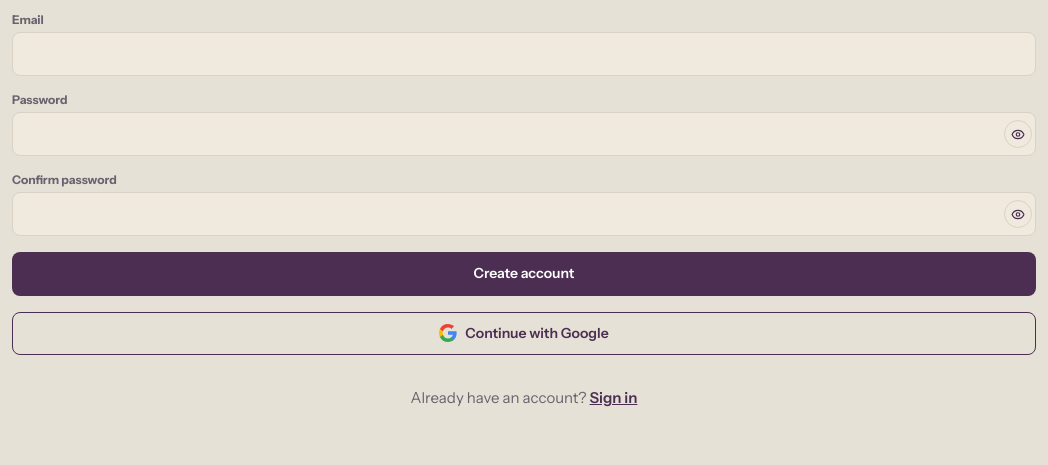
Scenario: SignUpForm › shows field errors only after blur, not while typing
The width and height of the screenshot is (1048, 465).
Type "not-an-email" into the field labelled "Email".
click(524, 54); type("not-an-email")  # box [12,32,1036,76]
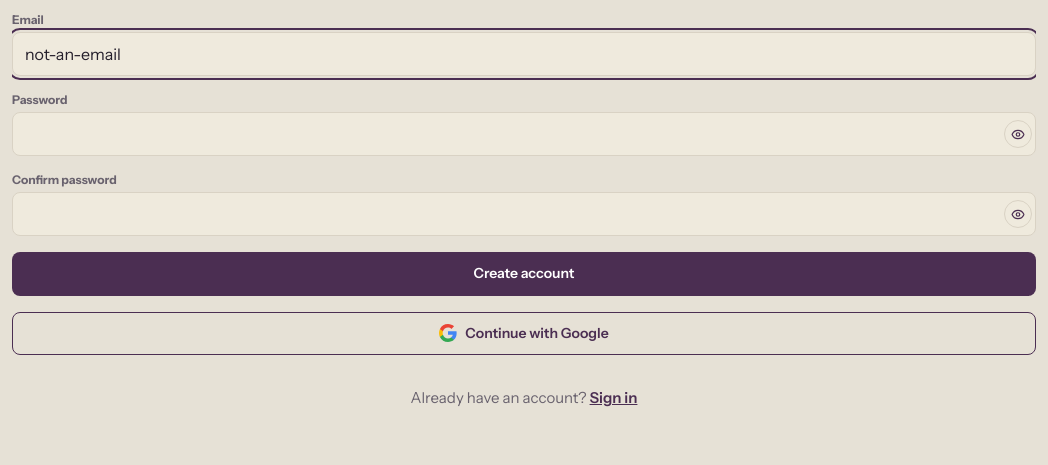
Expected: the text "Enter a valid email address." is not shown
Press Tab
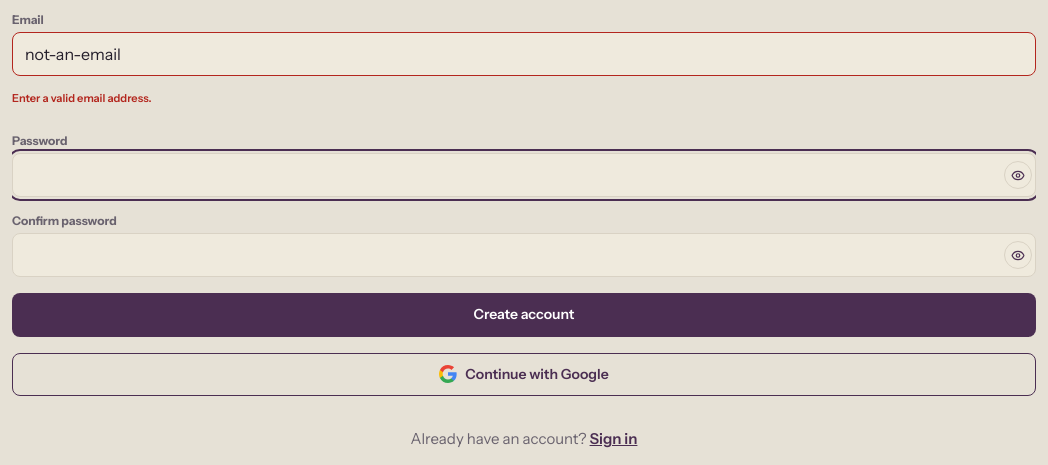
Expected: the text "Enter a valid email address." is shown, [12,91,151,105]
